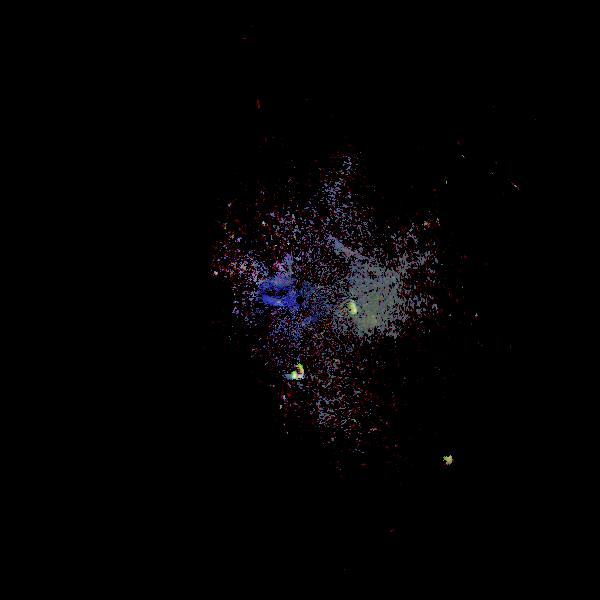roost: (288, 362, 309, 383), (341, 299, 362, 320), (442, 454, 457, 469)
